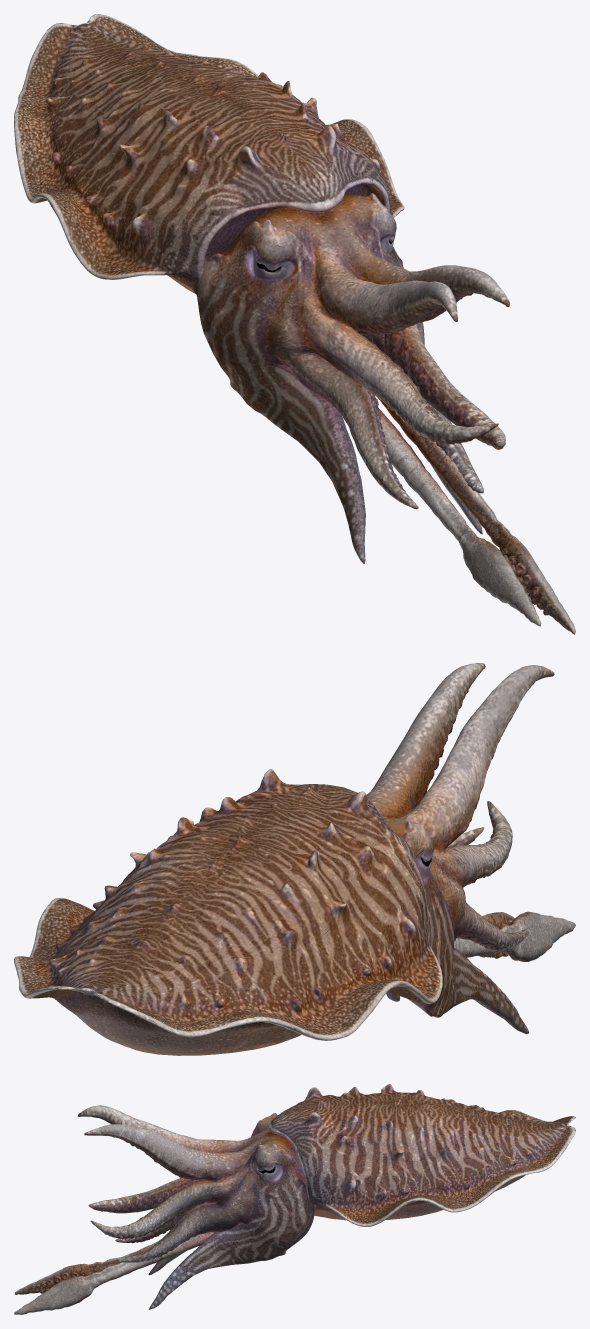
The model's file is cuttlefish.glb.
The picture shows the model from 3 angles, top to bottom: view 1: azimuth 30°, elevation 25°; view 2: azimuth 150°, elevation 25°; view 3: azimuth 270°, elevation 25°; orthographic projection. The views are drawn at different scales.
Visible parts, largest first — view 1: cuttlefish3_posed_Material #0_0; view 2: cuttlefish3_posed_Material #0_0; view 3: cuttlefish3_posed_Material #0_0.
Part boxes in pixels (x1,y1,x2,y2): cuttlefish3_posed_Material #0_0: (14,14,575,634); cuttlefish3_posed_Material #0_0: (14,663,575,1055); cuttlefish3_posed_Material #0_0: (14,1084,575,1314).
Size of the model in its own units: 1.48 by 1.47 by 3.69.
2 materials, 1 textured.
